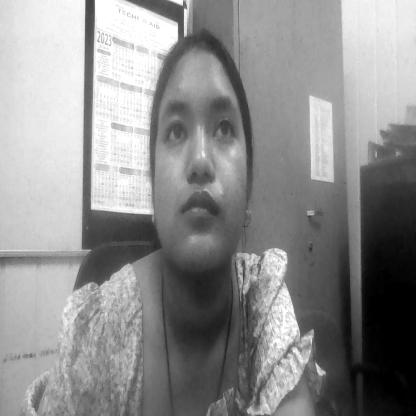Distracted: (156, 35, 246, 274)
